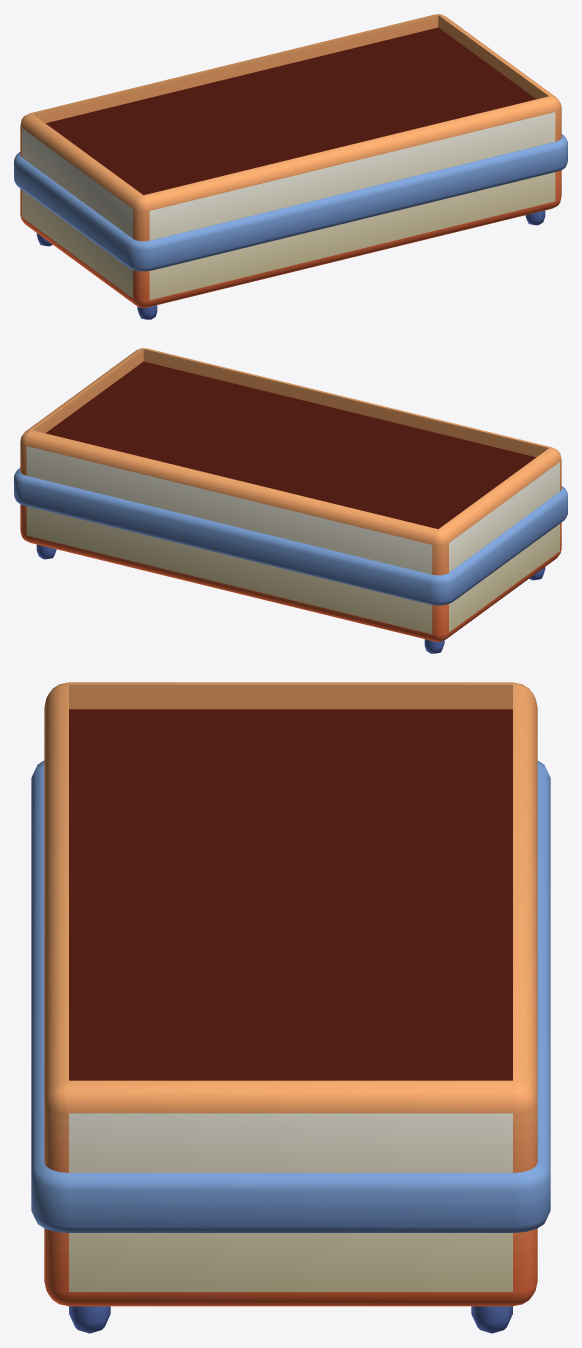
Rendered from sm_futuristic_bigpot.fbx.
3 views of the same model, one above another, from view 1: azimuth 30°, elevation 25°; view 2: azimuth 150°, elevation 25°; view 3: azimuth 270°, elevation 25° (orthographic). The views are drawn at different scales.
Parts seen in each view (by area): view 1: sm_futuristic_bigpot; view 2: sm_futuristic_bigpot; view 3: sm_futuristic_bigpot.
Part boxes in pixels (left/top/right/bottom): sm_futuristic_bigpot: left=14, top=14, right=567, bottom=319; sm_futuristic_bigpot: left=14, top=348, right=567, bottom=653; sm_futuristic_bigpot: left=31, top=682, right=550, bottom=1333.
Size of the model in its own units: 411 by 211 by 117.
